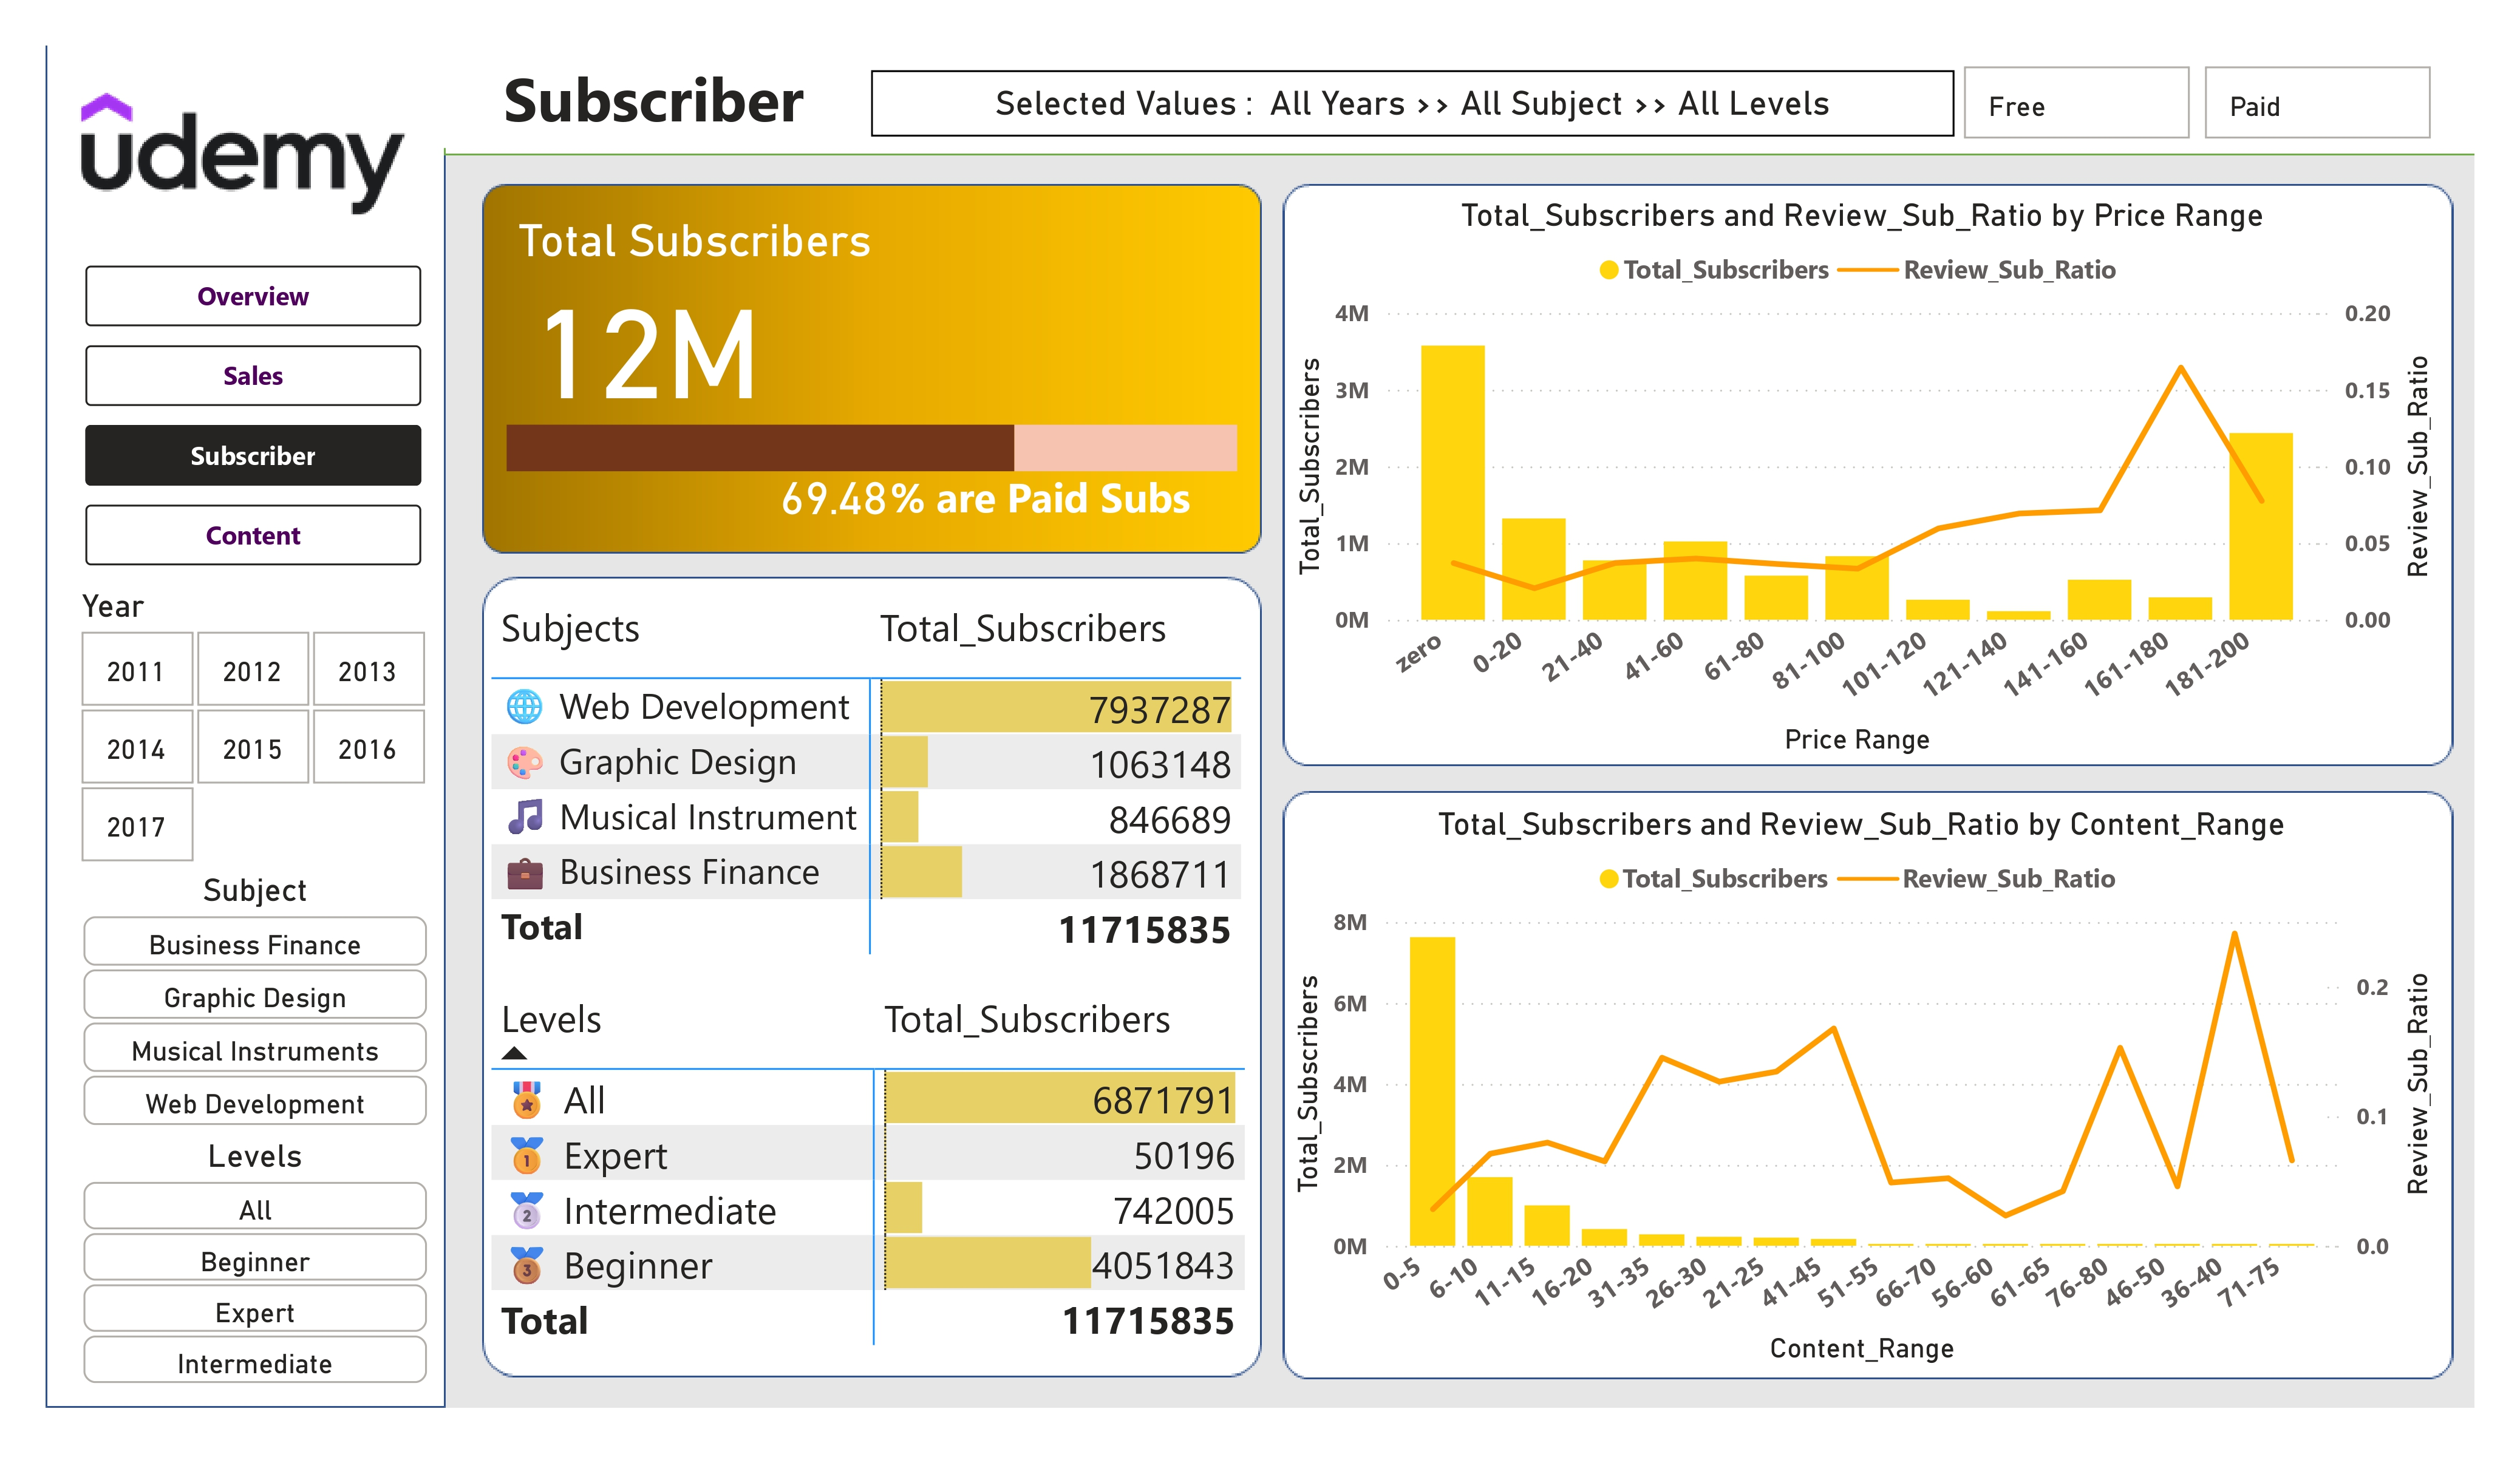

This screenshot's page, from the dashboard's own definition file:
{"tool":"powerbi","page":{"name":"Subscriber","canvas":[1280,720],"ordinal":2},"visuals":[{"type":"lineStackedColumnComboChart","fields":{"Y":["_Measures.Total_Subscribers"],"Y2":["_Measures.Review_Sub_Ratio"],"Category":["dim_pricerange.Price Range"]},"box":[652.6,78.9,609.2,300],"z":0},{"type":"lineStackedColumnComboChart","fields":{"Y":["_Measures.Total_Subscribers"],"Y2":["_Measures.Review_Sub_Ratio"],"Category":["dim_contentrange.Content_Range"]},"box":[652.4,400,609.5,300],"z":1000},{"type":"cardVisual","title":"Total Subscribers","fields":{"Data":["_Measures.Total_Subscribers"]},"box":[238.5,79,332.6,117.6],"z":2000},{"type":"hundredPercentStackedBarChart","fields":{"Y":["_Measures.# Free Subscribers","_Measures.# Paid Subscribers"]},"box":[238,154.3,395.3,110.2],"z":3000},{"type":"cardVisual","fields":{"Data":["_Measures.# pct_paid_subscribers"]},"box":[369.8,200,96.8,63.5],"z":4000},{"type":"textbox","box":[440.2,218.3,212.2,65.9],"z":5000},{"type":"pivotTable","fields":{"Rows":["dim_subject.subject_name"],"Values":["_Measures.Total_Subscribers"]},"box":[230.2,285.7,409.5,206.3],"z":6000},{"type":"pivotTable","fields":{"Values":["_Measures.Total_Subscribers"],"Rows":["dim_level.Level_Icon"]},"box":[230.2,492.1,409.5,207.9],"z":7000},{"type":"pageNavigator","box":[21.2,116.2,176.2,160],"z":8000},{"type":"advancedSlicerVisual","title":"Levels","fields":{"Values":["dim_level.Level"]},"box":[14.9,575.1,191.2,135.9],"z":9000},{"type":"advancedSlicerVisual","title":"Subject","fields":{"Values":["dim_subject.subject"]},"box":[14.9,434.7,191.2,140.4],"z":10000},{"type":"advancedSlicerVisual","fields":{"Values":["dim_date.Year"]},"box":[14.3,285,191.4,150],"z":11000},{"type":"advancedSlicerVisual","fields":{"Values":["dim_paid.course_type"]},"box":[1006.3,6.3,255.7,48.1],"z":12000},{"type":"card","fields":{"Values":["_Measures.# Selections Values"]},"box":[435.4,12.7,570.9,35.4],"z":13000},{"type":"textbox","box":[205.8,0,229,53.6],"z":14000}]}

Visuals, with their boxes in screenshot pixels (x1, y1, x2, y2):
lineStackedColumnComboChart - _Measures.Total_Subscribers x _Measures.Review_Sub_Ratio: [left=1284, top=195, right=2440, bottom=764]
lineStackedColumnComboChart - _Measures.Total_Subscribers x _Measures.Review_Sub_Ratio: [left=1284, top=804, right=2440, bottom=1373]
"Total Subscribers" cardVisual: [left=498, top=195, right=1129, bottom=418]
hundredPercentStackedBarChart - _Measures.# Free Subscribers x _Measures.# Paid Subscribers: [left=497, top=338, right=1247, bottom=548]
cardVisual - _Measures.# pct_paid_subscribers: [left=747, top=425, right=931, bottom=545]
textbox: [left=881, top=460, right=1284, bottom=585]
pivotTable - dim_subject.subject_name x _Measures.Total_Subscribers: [left=482, top=588, right=1259, bottom=979]
pivotTable - _Measures.Total_Subscribers x dim_level.Level_Icon: [left=482, top=979, right=1259, bottom=1373]
pageNavigator: [left=86, top=266, right=420, bottom=569]
"Levels" advancedSlicerVisual: [left=74, top=1136, right=437, bottom=1394]
"Subject" advancedSlicerVisual: [left=74, top=870, right=437, bottom=1136]
advancedSlicerVisual - dim_date.Year: [left=73, top=586, right=436, bottom=871]
advancedSlicerVisual - dim_paid.course_type: [left=1955, top=58, right=2440, bottom=149]
card - _Measures.# Selections Values: [left=872, top=70, right=1955, bottom=137]
textbox: [left=436, top=46, right=871, bottom=147]
